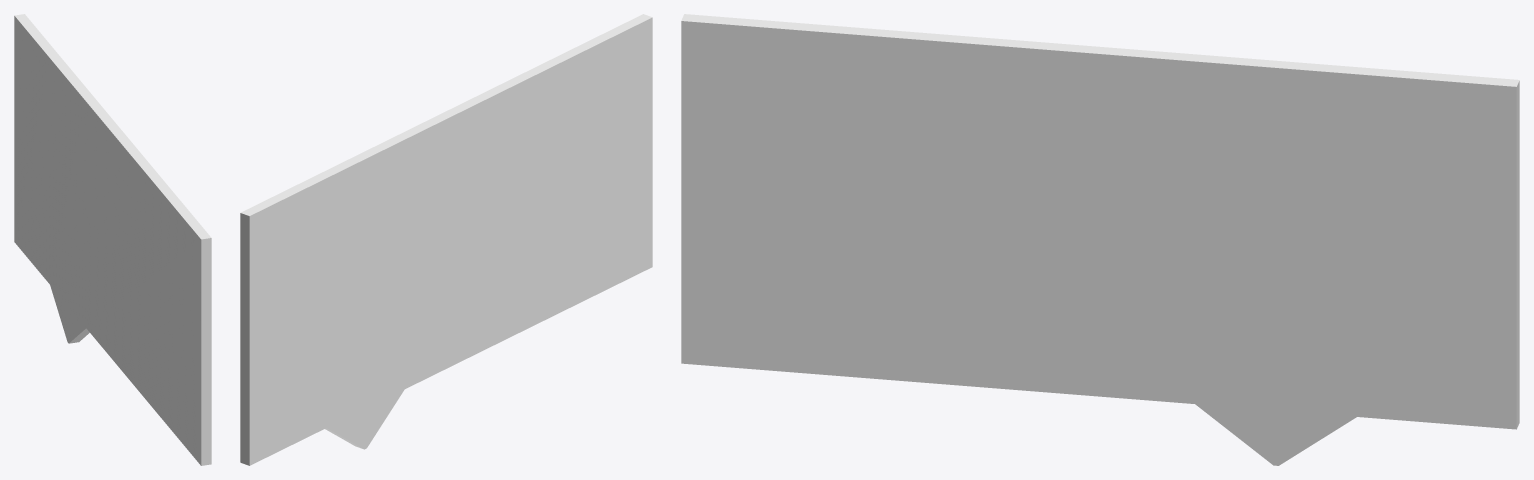
The model's file is sign5.glb.
3 views of the same model, side by side, from view 1: azimuth 30°, elevation 25°; view 2: azimuth 150°, elevation 25°; view 3: azimuth 270°, elevation 25° (orthographic). The views are drawn at different scales.
Visible parts, largest first — view 1: sign_5_tridenyodpad; view 2: sign_5_tridenyodpad; view 3: sign_5_tridenyodpad.
Part boxes in pixels (box(x1,y1,x2,y2)): sign_5_tridenyodpad: box(14, 14, 211, 465); sign_5_tridenyodpad: box(240, 14, 652, 465); sign_5_tridenyodpad: box(681, 14, 1519, 465).
Size of the model in its own units: 0.3218 by 0.8188 by 1.56.
1 material, 1 textured.
